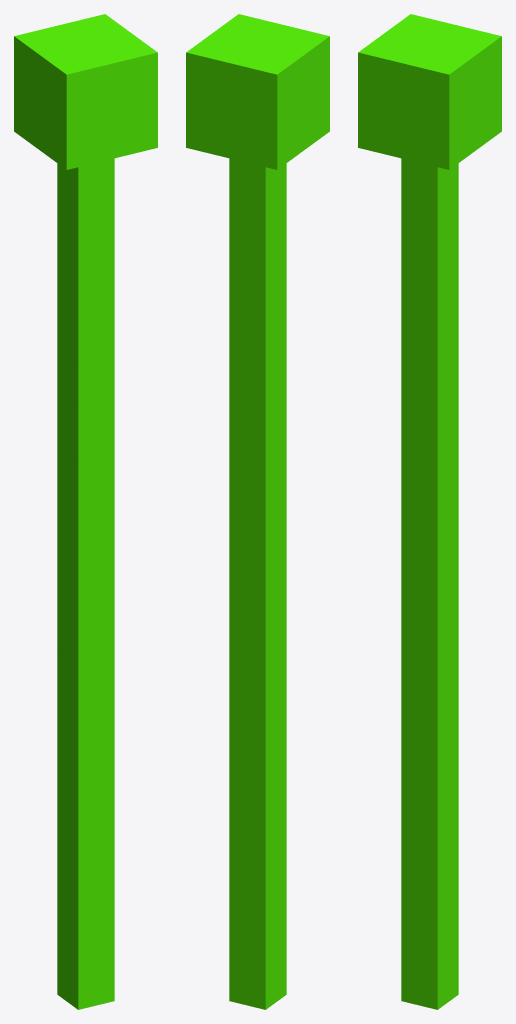
The model's file is ScaleY.obj.
The picture shows the model from 3 angles, left to right: view 1: azimuth 30°, elevation 25°; view 2: azimuth 150°, elevation 25°; view 3: azimuth 330°, elevation 25°; orthographic projection.
Parts seen in each view (by area): view 1: scale_y; view 2: scale_y; view 3: scale_y.
Boxes of the visible parts, box(x1,y1,x2,y2) form: scale_y: box(14, 14, 157, 1009); scale_y: box(186, 14, 329, 1009); scale_y: box(358, 14, 501, 1009).
Bounding box in the file's own units: 10 × 100 × 10.
1 material, 1 textured.
